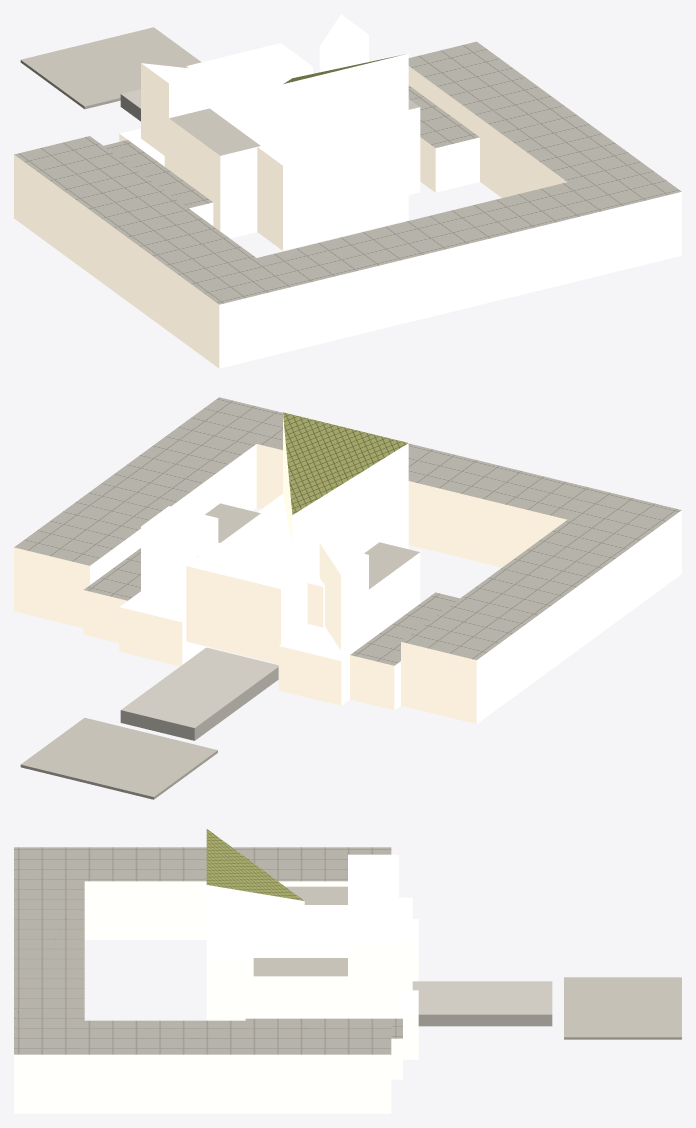
The model's file is supreme_court_far.glb.
3 renders of one model, top to bottom at view 1: azimuth 30°, elevation 25°; view 2: azimuth 150°, elevation 25°; view 3: azimuth 270°, elevation 25°, orthographic. The views are drawn at different scales.
Parts seen in each view (by area): view 1: m_sc_marble_plain, m_sc_wing_roof, m_sc_paving; view 2: m_sc_marble_plain, m_sc_wing_roof, m_sc_paving, m_sc_stair, m_sc_triangle_roof; view 3: m_sc_marble_plain, m_sc_wing_roof, m_sc_paving, m_sc_stair, m_sc_triangle_roof.
Boxes of the visible parts, bbox=[...] form: m_sc_marble_plain: bbox=[14, 14, 681, 368]; m_sc_wing_roof: bbox=[14, 41, 681, 304]; m_sc_paving: bbox=[20, 27, 419, 155]; m_sc_marble_plain: bbox=[14, 415, 681, 724]; m_sc_wing_roof: bbox=[14, 397, 681, 665]; m_sc_paving: bbox=[20, 503, 419, 799]; m_sc_stair: bbox=[120, 647, 278, 740]; m_sc_triangle_roof: bbox=[283, 412, 408, 514]; m_sc_marble_plain: bbox=[14, 854, 418, 1113]; m_sc_wing_roof: bbox=[14, 847, 402, 1054]; m_sc_paving: bbox=[253, 886, 681, 1039]; m_sc_stair: bbox=[412, 981, 552, 1026]; m_sc_triangle_roof: bbox=[206, 829, 303, 900].
Size of the model in its own units: 125 by 43 by 170.
Materials: 6 (2 with a texture image).
